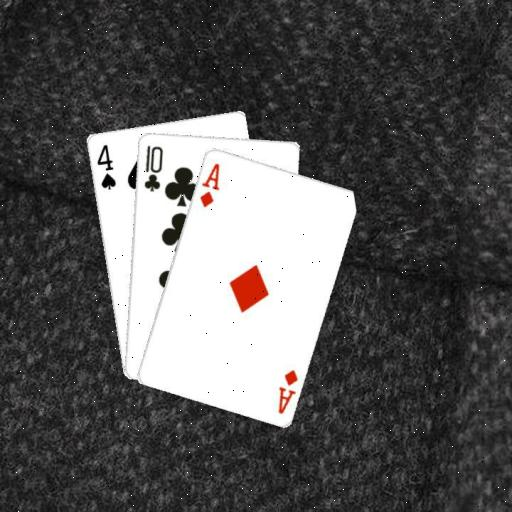10C: (140, 142, 164, 193)
4S: (93, 141, 117, 191)
AD: (196, 160, 221, 209), (275, 367, 300, 416)
